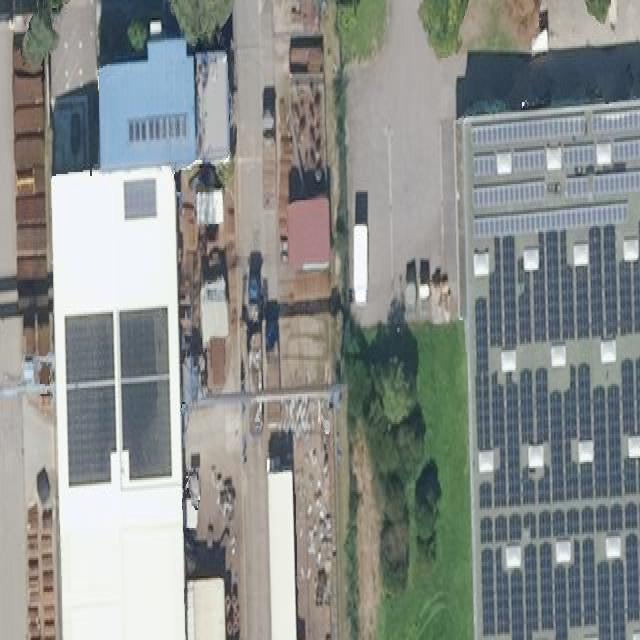PV: (471, 226, 639, 638), (469, 106, 639, 236), (63, 306, 174, 490)
